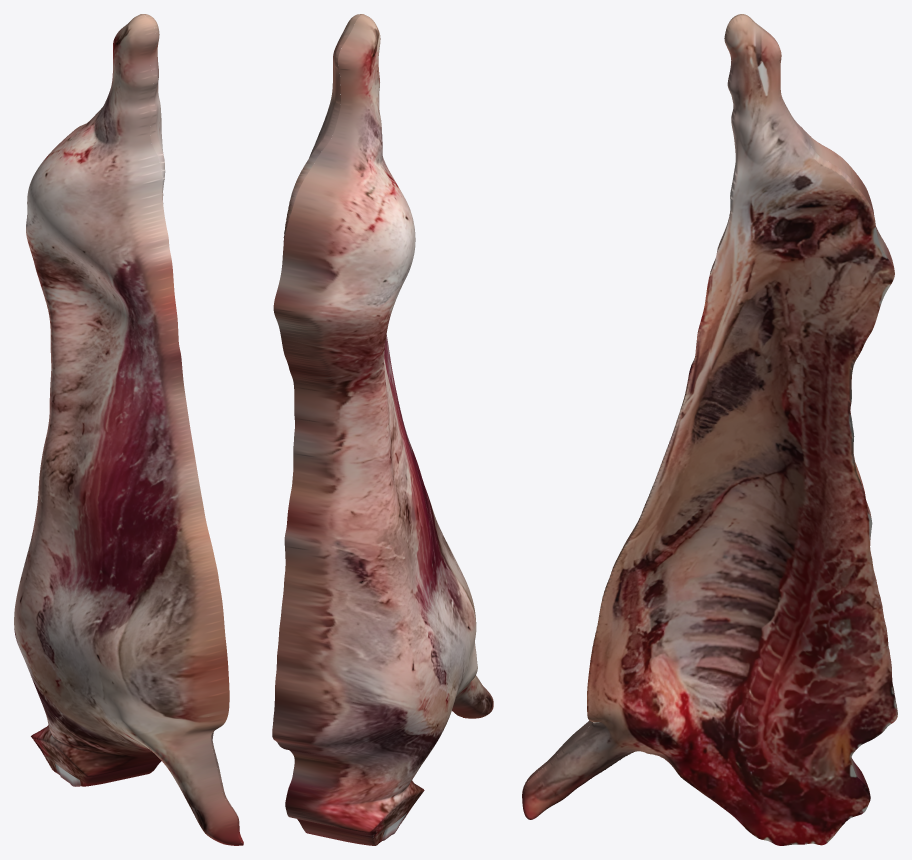
Rendered from demi_carcasse_boeuf_v6.glb.
The picture shows the model from 3 angles, left to right: view 1: azimuth 30°, elevation 25°; view 2: azimuth 150°, elevation 25°; view 3: azimuth 270°, elevation 25°; orthographic projection. The views are drawn at different scales.
Visible parts, largest first — view 1: face_exterieure, face_de_fente; view 2: face_exterieure, face_de_fente; view 3: face_de_fente, face_exterieure.
Boxes of the visible parts, x1,y1,x2,y2 form: face_exterieure: (14, 14, 243, 845); face_de_fente: (142, 14, 243, 844); face_exterieure: (272, 14, 493, 845); face_de_fente: (283, 14, 463, 717); face_de_fente: (522, 15, 897, 845); face_exterieure: (523, 14, 897, 794).
Size of the model in its own units: 0.3993 by 2.5 by 1.03.
Materials: 2 (2 with a texture image).
